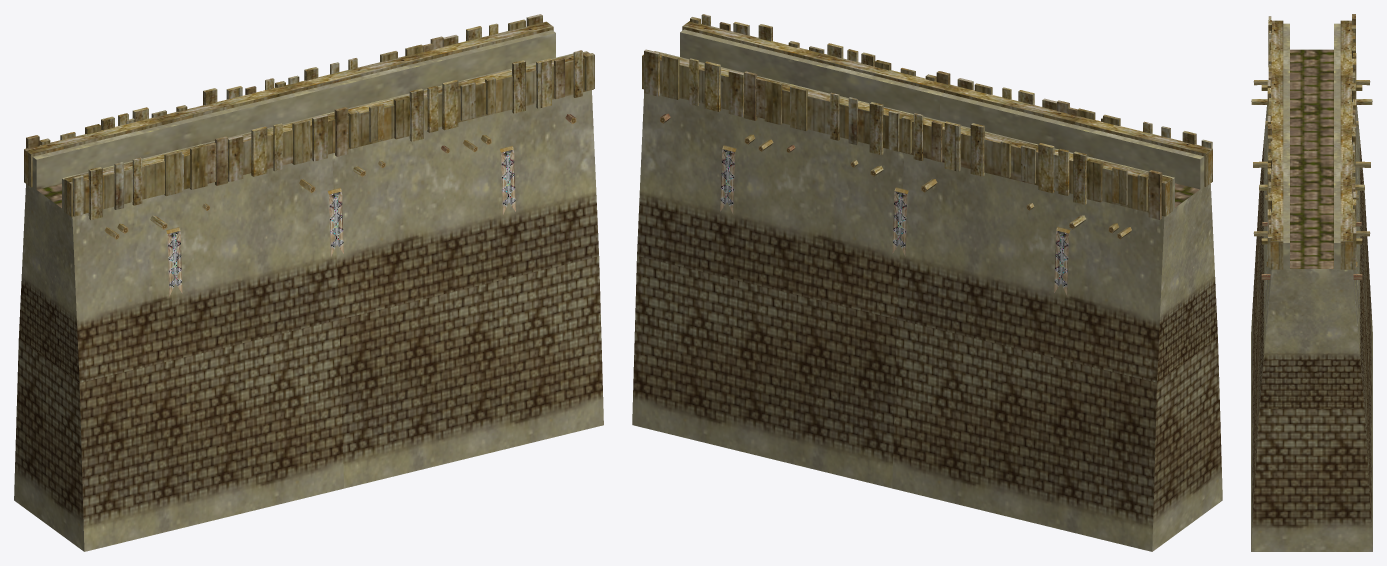
Rendered from iber_wall.glb.
3 views of the same model, side by side, from view 1: azimuth 30°, elevation 25°; view 2: azimuth 150°, elevation 25°; view 3: azimuth 270°, elevation 25° (orthographic). The views are drawn at different scales.
Visible parts, largest first — view 1: iber_wall_part0; view 2: iber_wall_part0; view 3: iber_wall_part0.
Part boxes in pixels (<box>): iber_wall_part0: <box>14,14,603,551</box>; iber_wall_part0: <box>632,14,1222,551</box>; iber_wall_part0: <box>1251,14,1372,551</box>.
Bounding box in the file's own units: 2 × 1.36 × 0.4666.
1 material, 1 textured.
